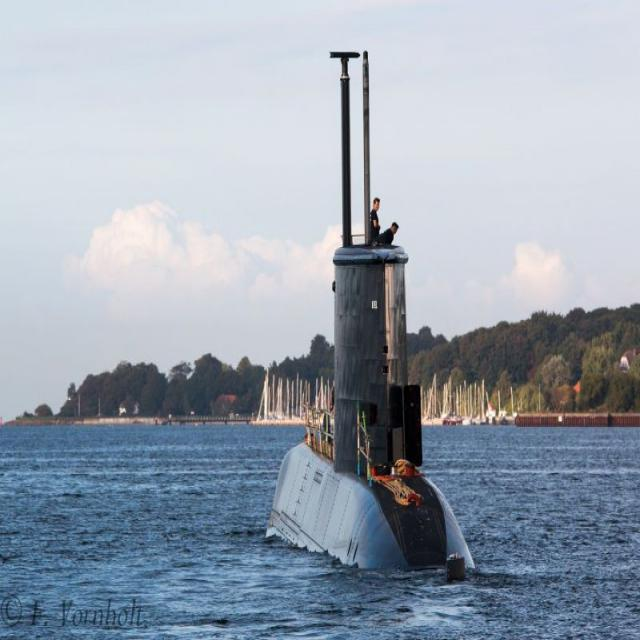submarine: (264, 53, 480, 573)
